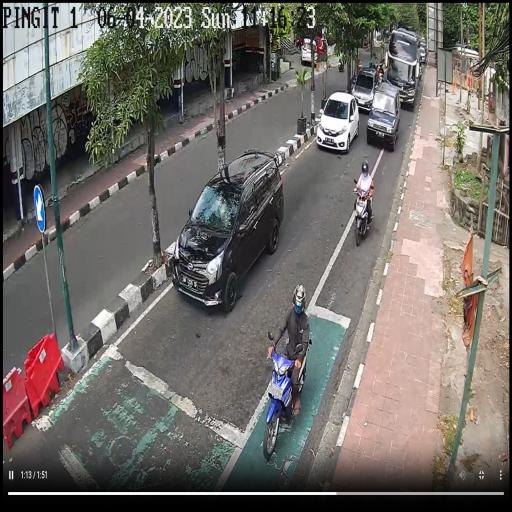mobil: (174, 152, 282, 311), (318, 90, 358, 157), (389, 26, 419, 111), (366, 78, 399, 154), (351, 64, 379, 114)
motor: (262, 328, 313, 459), (352, 178, 374, 246)
